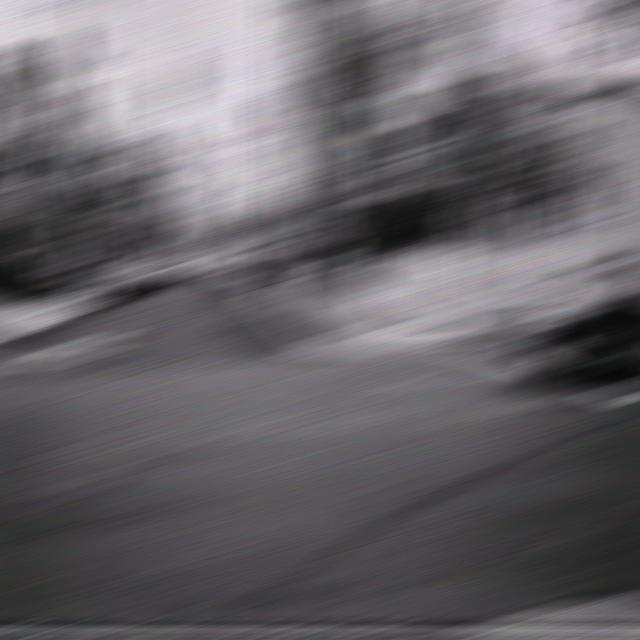speedLimit25: (299, 152, 342, 194)
